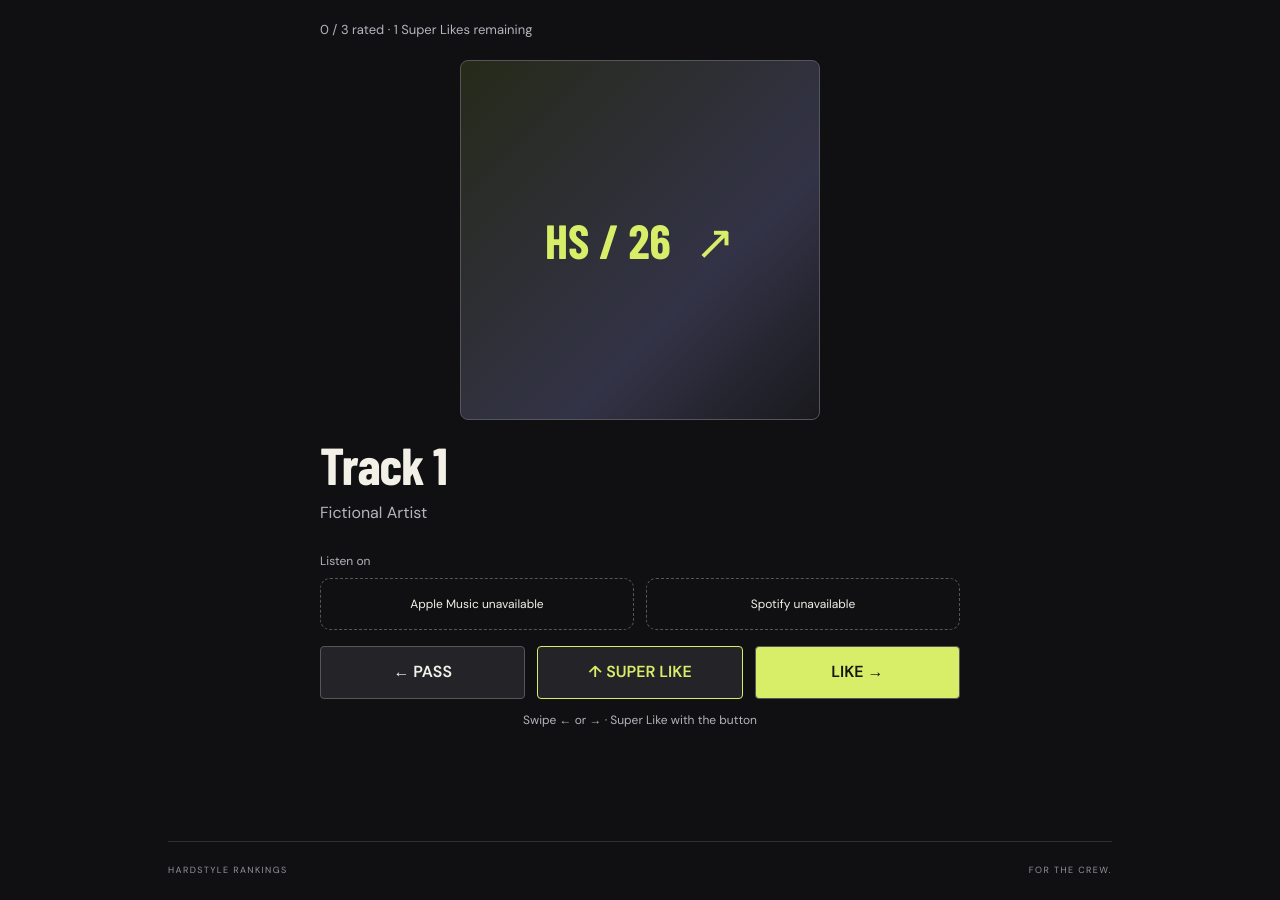
Test case: durable rating › saves SUPER_LIKE with expected version zero then advances and refreshes personal progress
(page scrolled)
Check: the heading "Track 1" is shown, box [320,433,447,495]
What coordinates should you click on to do the following:
click the button "↑ SUPER LIKE"
I would click on:
 (640, 672)
Its box is [537,646,743,699].
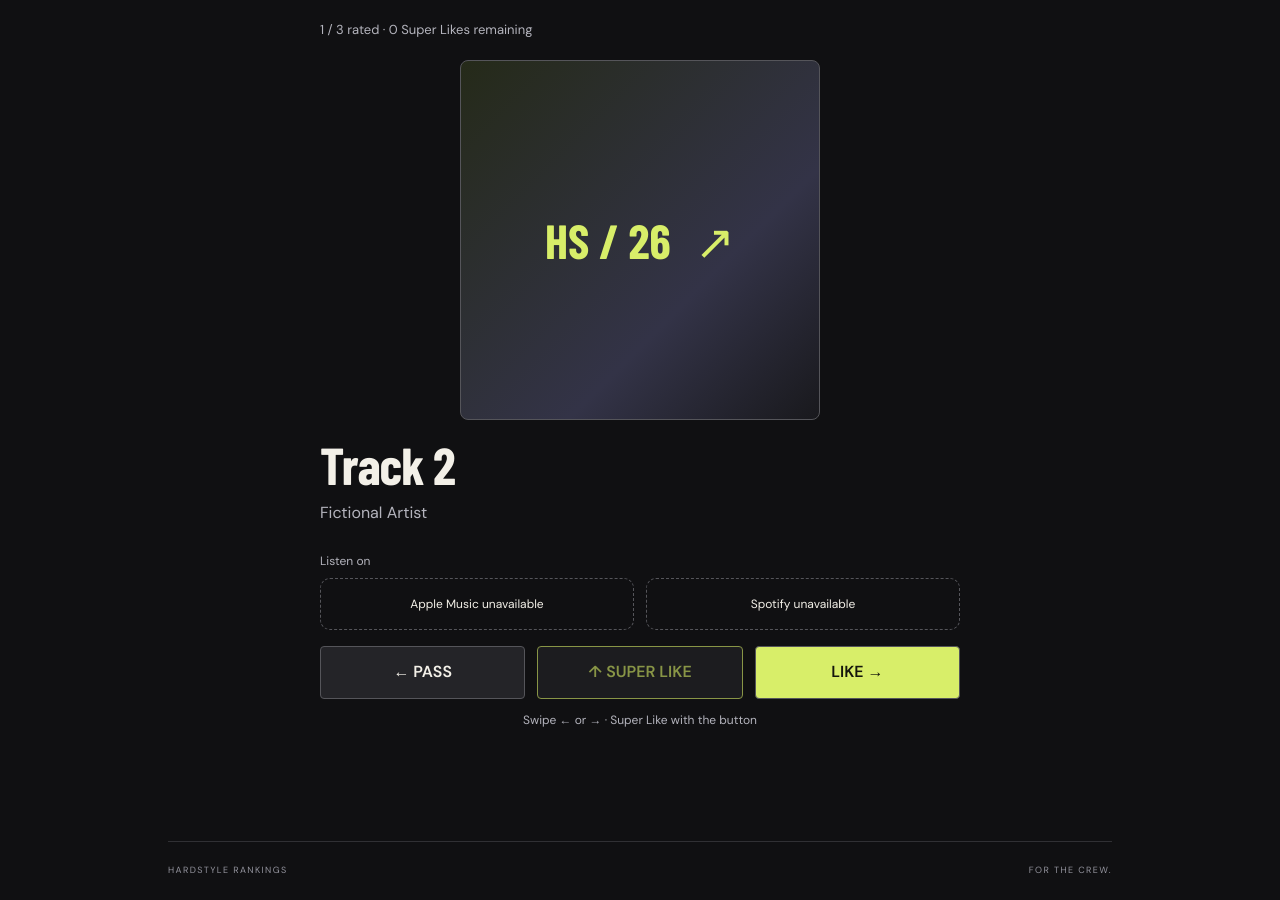
Check: the heading "Track 2" is shown, box [320,433,455,495]
